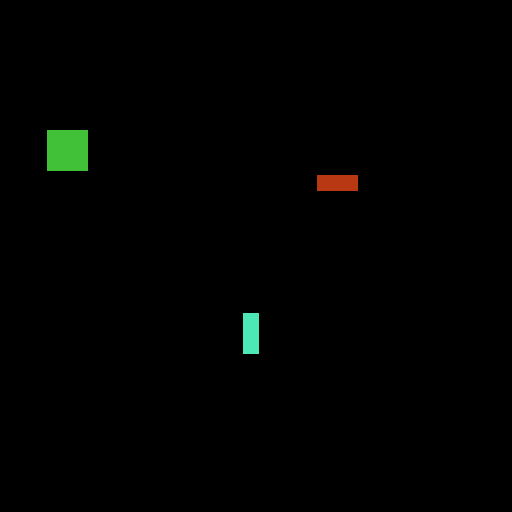side_rect: (311, 169, 367, 195)
square: (42, 126, 96, 174)
up_rect: (237, 307, 269, 360)
